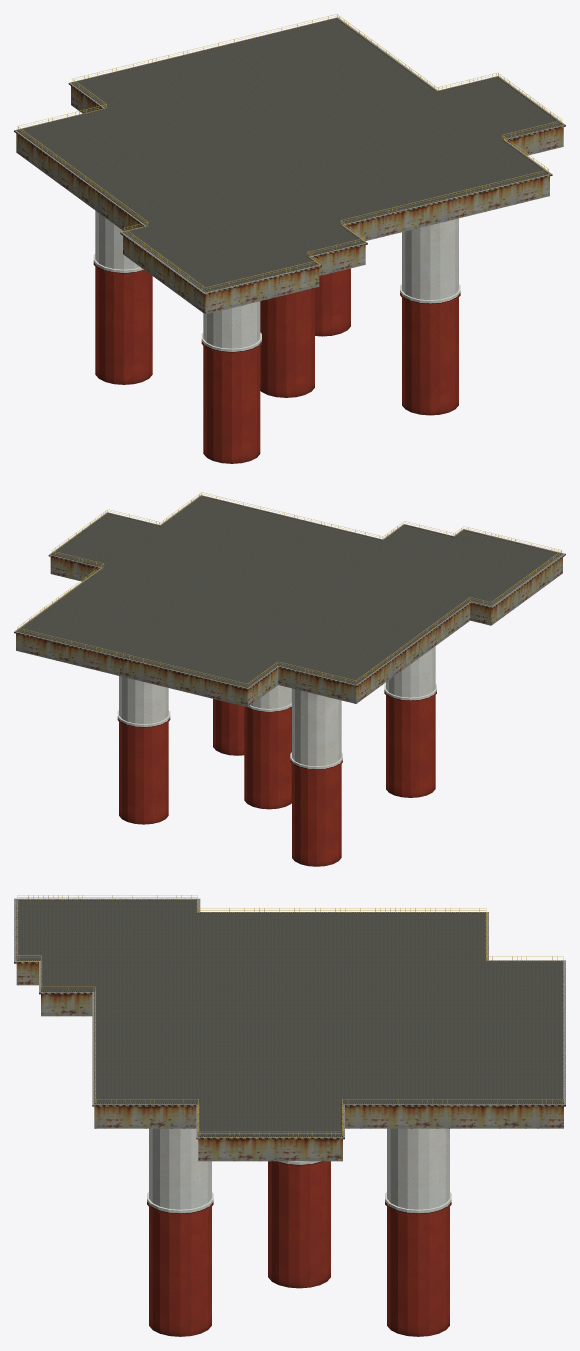
File: platform.dae
The picture shows the model from 3 angles, top to bottom: view 1: azimuth 30°, elevation 25°; view 2: azimuth 150°, elevation 25°; view 3: azimuth 270°, elevation 25°; orthographic projection. The views are drawn at different scales.
Parts seen in each view (by area): view 1: Mesh_Object; view 2: Mesh_Object; view 3: Mesh_Object.
Part boxes in pixels (box(x1,y1,x2,y2)): Mesh_Object: box(14, 14, 565, 463); Mesh_Object: box(14, 492, 565, 866); Mesh_Object: box(14, 895, 565, 1336).
Size of the model in its own units: 145 by 75.73 by 142.
